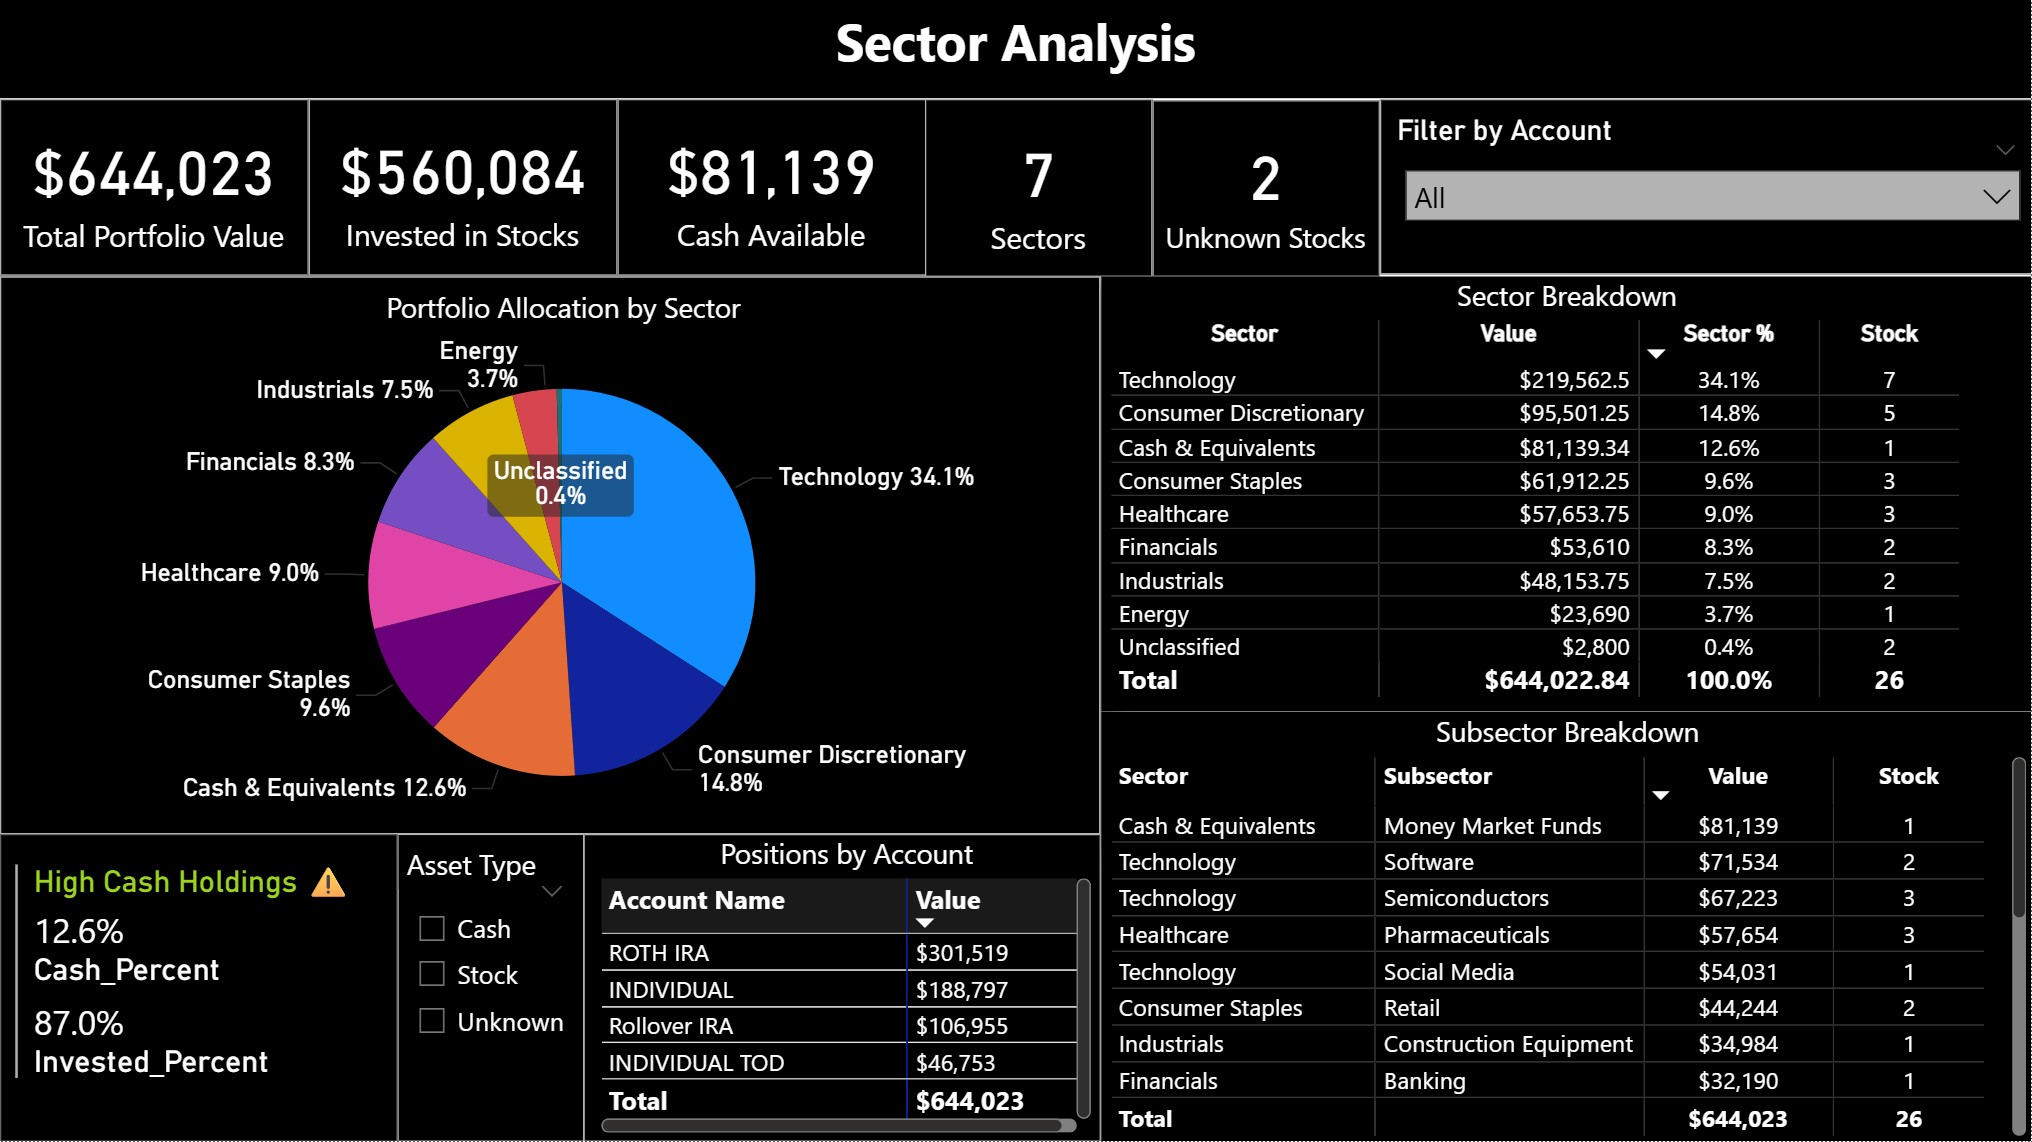

What the dashboard file says about the page in this screenshot:
{"tool":"powerbi","page":{"name":"Sector Analysis","canvas":[1280,720],"ordinal":1},"visuals":[{"type":"textbox","box":[0,0,1280.2,62.8],"z":0},{"type":"card","fields":{"Values":["All_Measures_Tbl.Total_Portfolio_Value"]},"box":[0,63.3,194.2,110.8],"z":1000},{"type":"pieChart","title":"Portfolio Allocation by Sector","fields":{"Y":["Sum(Portfolio_Position.Current_Value)"],"Category":["Portfolio_Position.Sector_Display"]},"box":[0,174.4,725.6,351.2],"z":2000},{"type":"card","fields":{"Values":["All_Measures_Tbl.Invested_Value"]},"box":[194.4,63,194.4,111],"z":3000},{"type":"card","fields":{"Values":["All_Measures_Tbl.Cash_Available"]},"box":[388.8,63,194.4,111],"z":4000},{"type":"card","fields":{"Values":["All_Measures_Tbl.Number_Of_Sectors"]},"box":[582.4,63,143.2,111.8],"z":5000},{"type":"card","fields":{"Values":["All_Measures_Tbl.Unknown_Stocks_Count"]},"box":[725.8,64,143,110.3],"z":6000},{"type":"tableEx","title":"Sector Breakdown","fields":{"Values":["Portfolio_Position.Sector_Display","Sum(Portfolio_Position.Current_Value)","All_Measures_Tbl.Sector_Percent_Table","Portfolio_Position.Symbol"]},"box":[725.6,174.4,554.7,274.4],"z":7000},{"type":"multiRowCard","fields":{"Values":["All_Measures_Tbl.Cash_Deployment_Status"]},"box":[0,525.6,264,59.3],"z":8000},{"type":"tableEx","title":"Positions by Account","fields":{"Values":["Portfolio_Position.Account_Name","Sum(Portfolio_Position.Current_Value)"]},"box":[367.4,525.6,358.1,194.2],"z":9000},{"type":"slicer","title":"Asset Type","fields":{"Values":["Portfolio_Position.Asset_Type"]},"box":[264.2,526.1,103.4,194.1],"z":10000},{"type":"slicer","title":"Filter by Account","fields":{"Values":["Portfolio_Position.Account_Name"]},"box":[868.6,64,411.6,109.3],"z":11000},{"type":"tableEx","title":"Subsector Breakdown","fields":{"Values":["Portfolio_Position.Sector_Display","Portfolio_Position.Subsector_Display","Sum(Portfolio_Position.Current_Value)","Portfolio_Position.Symbol"]},"box":[725.6,448.8,554.7,270.9],"z":12000},{"type":"actionButton","box":[0,0,100,40],"z":13000},{"type":"multiRowCard","fields":{"Values":["All_Measures_Tbl.Cash_Percent","All_Measures_Tbl.Invested_Percent"]},"box":[0,584.9,264,134.9],"z":14000},{"type":"actionButton","box":[234,527,30.2,26.7],"z":15000}]}

Visuals, with their boxes in screenshot pixels (x1, y1, x2, y2), scaled from the page's 1280x720 canvas onto the 2032x1142 screenshot:
textbox: 0, 0, 2031, 100
card - All_Measures_Tbl.Total_Portfolio_Value: 0, 100, 308, 276
"Portfolio Allocation by Sector" pieChart: 0, 277, 1152, 834
card - All_Measures_Tbl.Invested_Value: 309, 100, 617, 276
card - All_Measures_Tbl.Cash_Available: 617, 100, 926, 276
card - All_Measures_Tbl.Number_Of_Sectors: 925, 100, 1152, 277
card - All_Measures_Tbl.Unknown_Stocks_Count: 1152, 102, 1379, 276
"Sector Breakdown" tableEx: 1152, 277, 2031, 712
multiRowCard - All_Measures_Tbl.Cash_Deployment_Status: 0, 834, 419, 928
"Positions by Account" tableEx: 583, 834, 1152, 1141
"Asset Type" slicer: 419, 834, 584, 1141
"Filter by Account" slicer: 1379, 102, 2031, 275
"Subsector Breakdown" tableEx: 1152, 712, 2031, 1141
actionButton: 0, 0, 159, 63
multiRowCard - All_Measures_Tbl.Cash_Percent x All_Measures_Tbl.Invested_Percent: 0, 928, 419, 1141
actionButton: 371, 836, 419, 878
